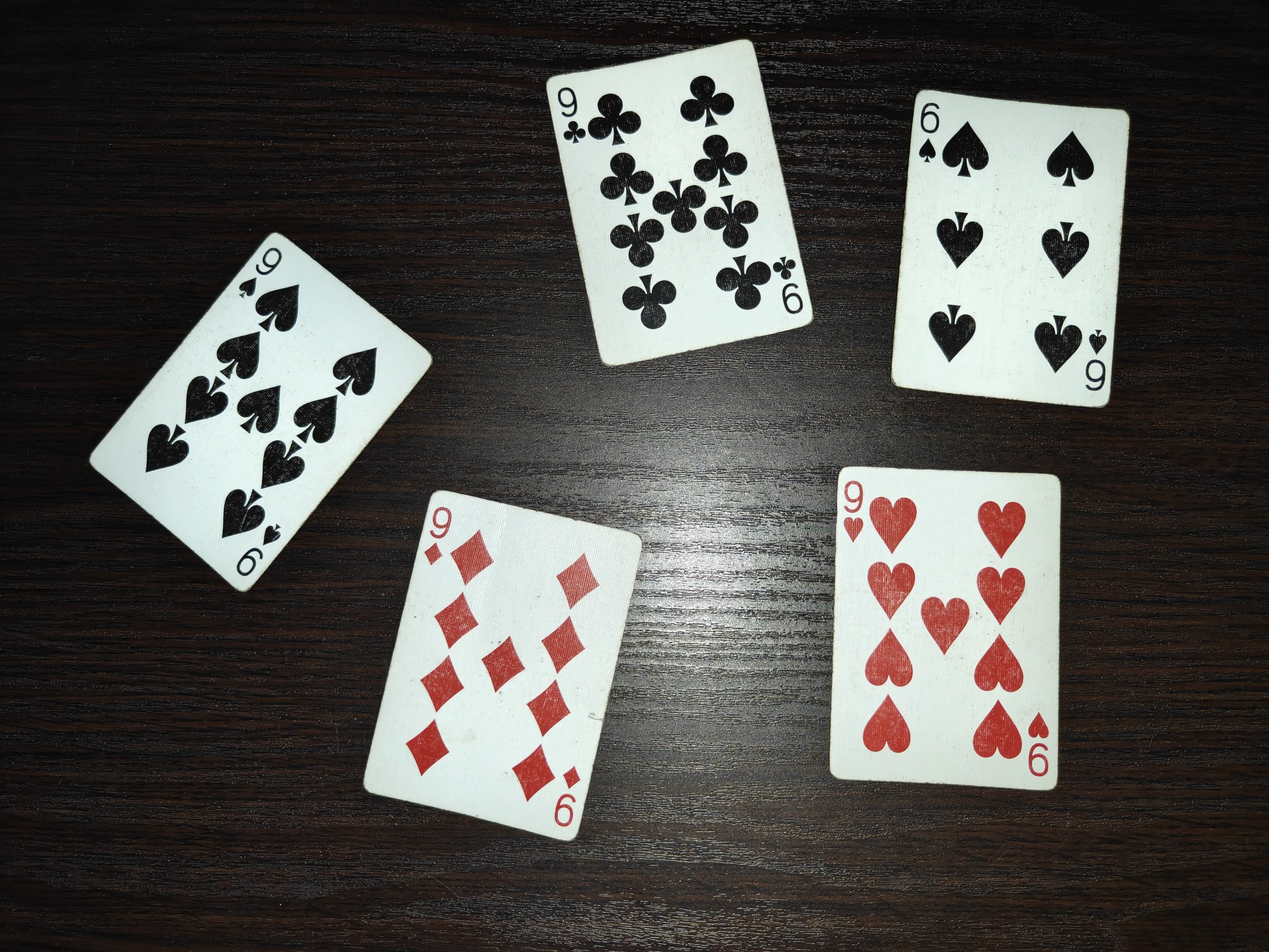6S: (890, 89, 1131, 411)
9C: (546, 39, 813, 368)
9D: (361, 488, 643, 843)
9H: (830, 465, 1061, 792)
9S: (90, 230, 435, 594)
